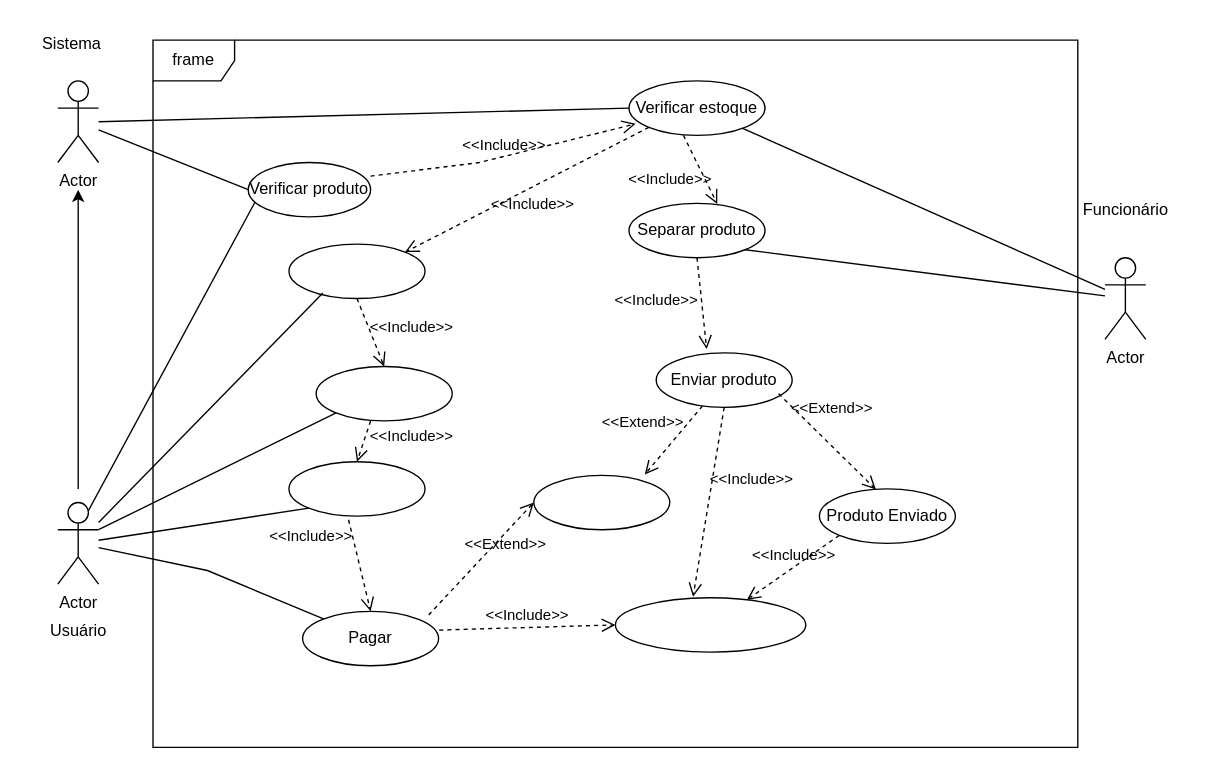
Image size: 1209x771. Some labels were removed from this diagram. The centre of each missing label's shape, as x and y in pixels:
Cadastrar: (383,393)
Escolher produto: (356,271)
Login: (356,488)
Produto Entregue: (710,624)
Retirar produto: (601,502)
